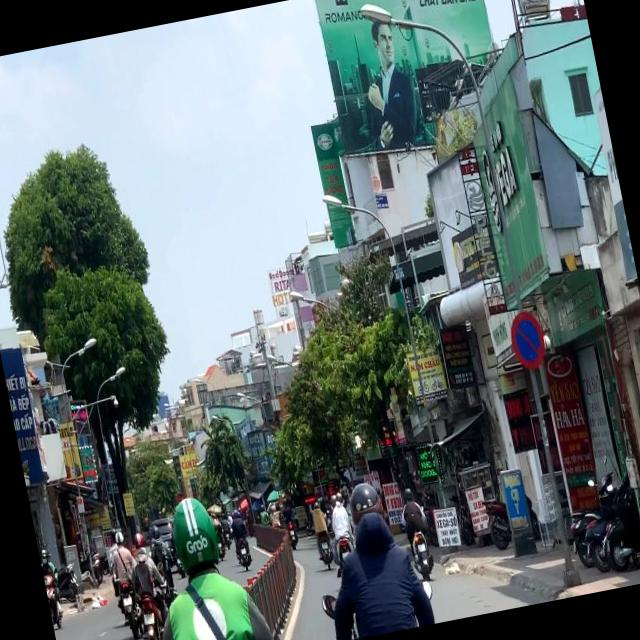P-131a: (506, 308, 549, 372)
